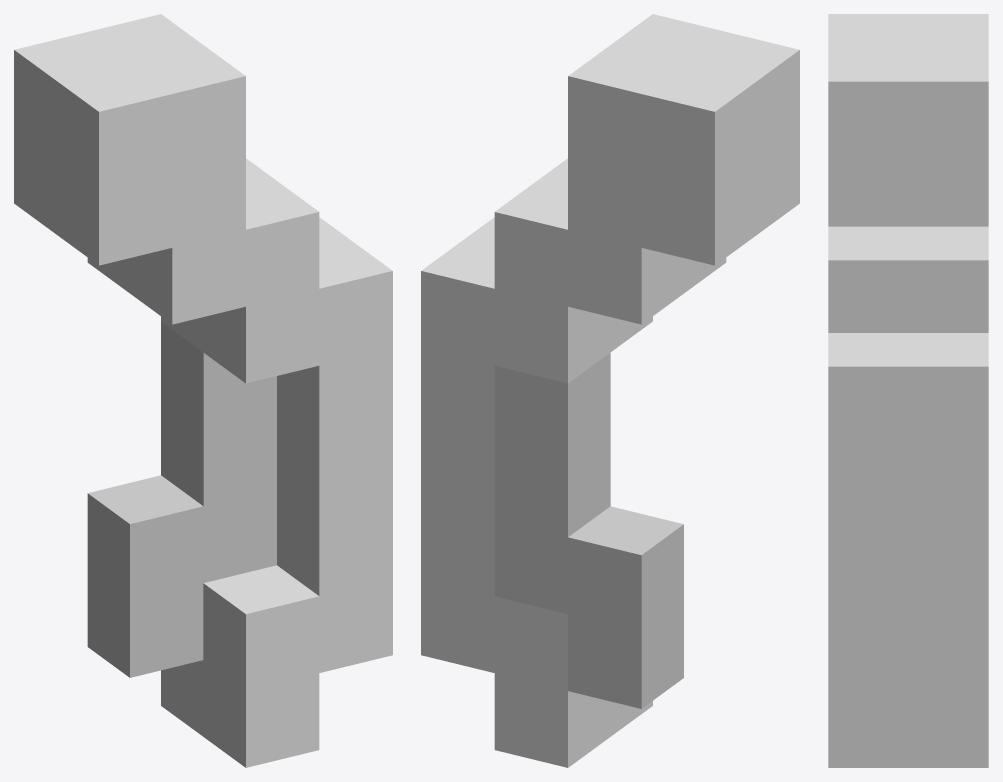
The model's file is Skeleton-4.obj.
3 views of the same model, side by side, from view 1: azimuth 30°, elevation 25°; view 2: azimuth 150°, elevation 25°; view 3: azimuth 270°, elevation 25° (orthographic). The views are drawn at different scales.
Size of the model in its own units: 0.4 by 0.9 by 0.2.
Materials: 1 (1 with a texture image).
